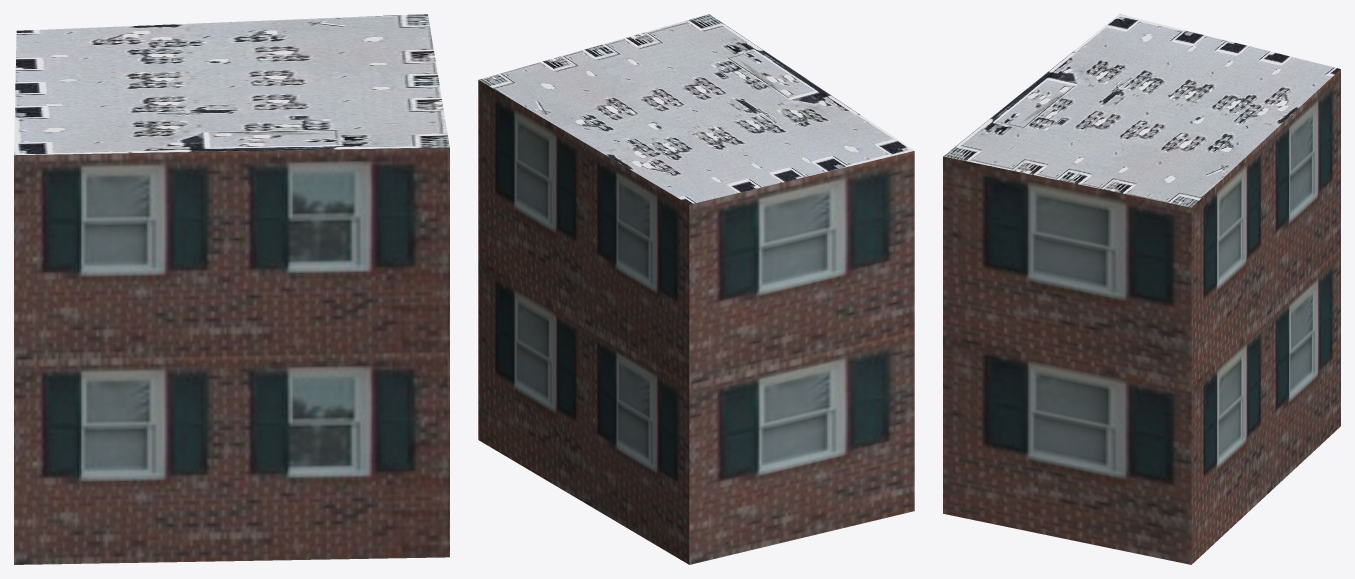
Rendered from ResTex__657.fbx.
3 renders of one model, left to right at view 1: azimuth 30°, elevation 25°; view 2: azimuth 150°, elevation 25°; view 3: azimuth 270°, elevation 25°, orthographic. The views are drawn at different scales.
Visible parts, largest first — view 1: CityEngineMaterial_14_m, CityEngineMaterial_8_m; view 2: CityEngineMaterial_14_m, CityEngineMaterial_8_m; view 3: CityEngineMaterial_14_m, CityEngineMaterial_8_m.
Boxes of the visible parts, left/top/right/bottom form: CityEngineMaterial_14_m: left=14, top=147, right=449, bottom=564; CityEngineMaterial_8_m: left=14, top=14, right=449, bottom=155; CityEngineMaterial_14_m: left=478, top=80, right=914, bottom=564; CityEngineMaterial_8_m: left=478, top=14, right=913, bottom=204; CityEngineMaterial_14_m: left=943, top=69, right=1340, bottom=564; CityEngineMaterial_8_m: left=943, top=14, right=1340, bottom=207.
Size of the model in its own units: 6.97 by 6 by 6.05.
2 materials, 2 textured.
